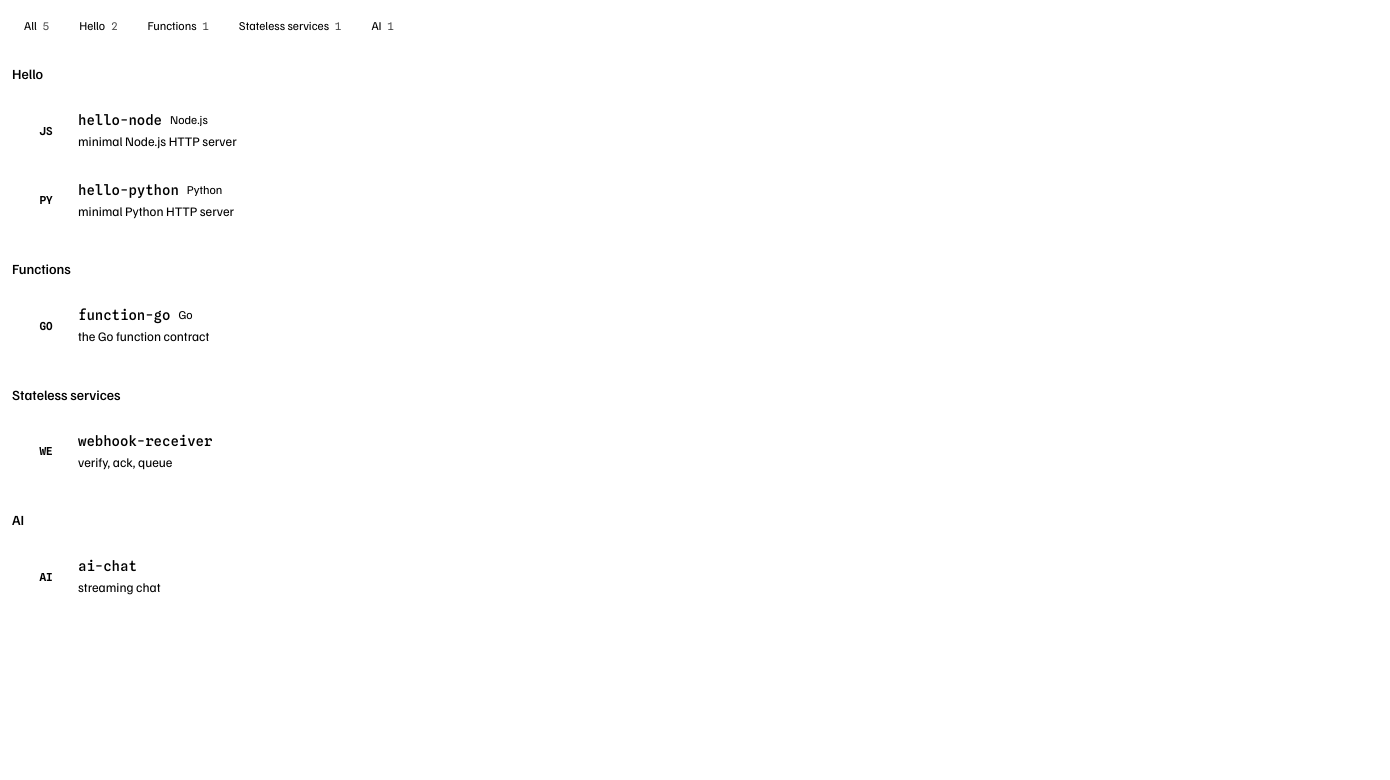
Scenario: TemplateCatalog › narrows the list by category, with counts
Click the button "Hello 2": (98, 26) [67, 12, 129, 40]
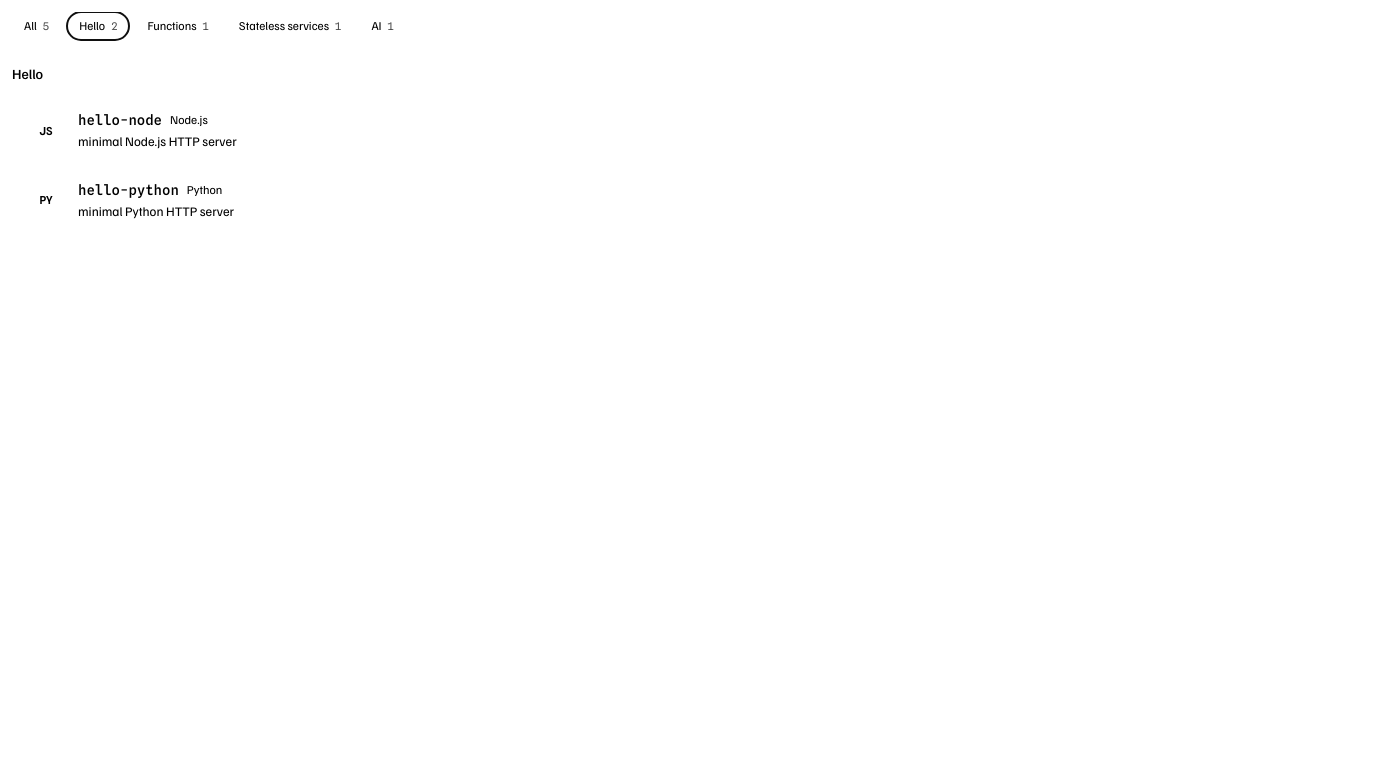
Expected: the button "hello-node" is shown, [12, 96, 1378, 166]
Now the button "ai-chat" is gone
